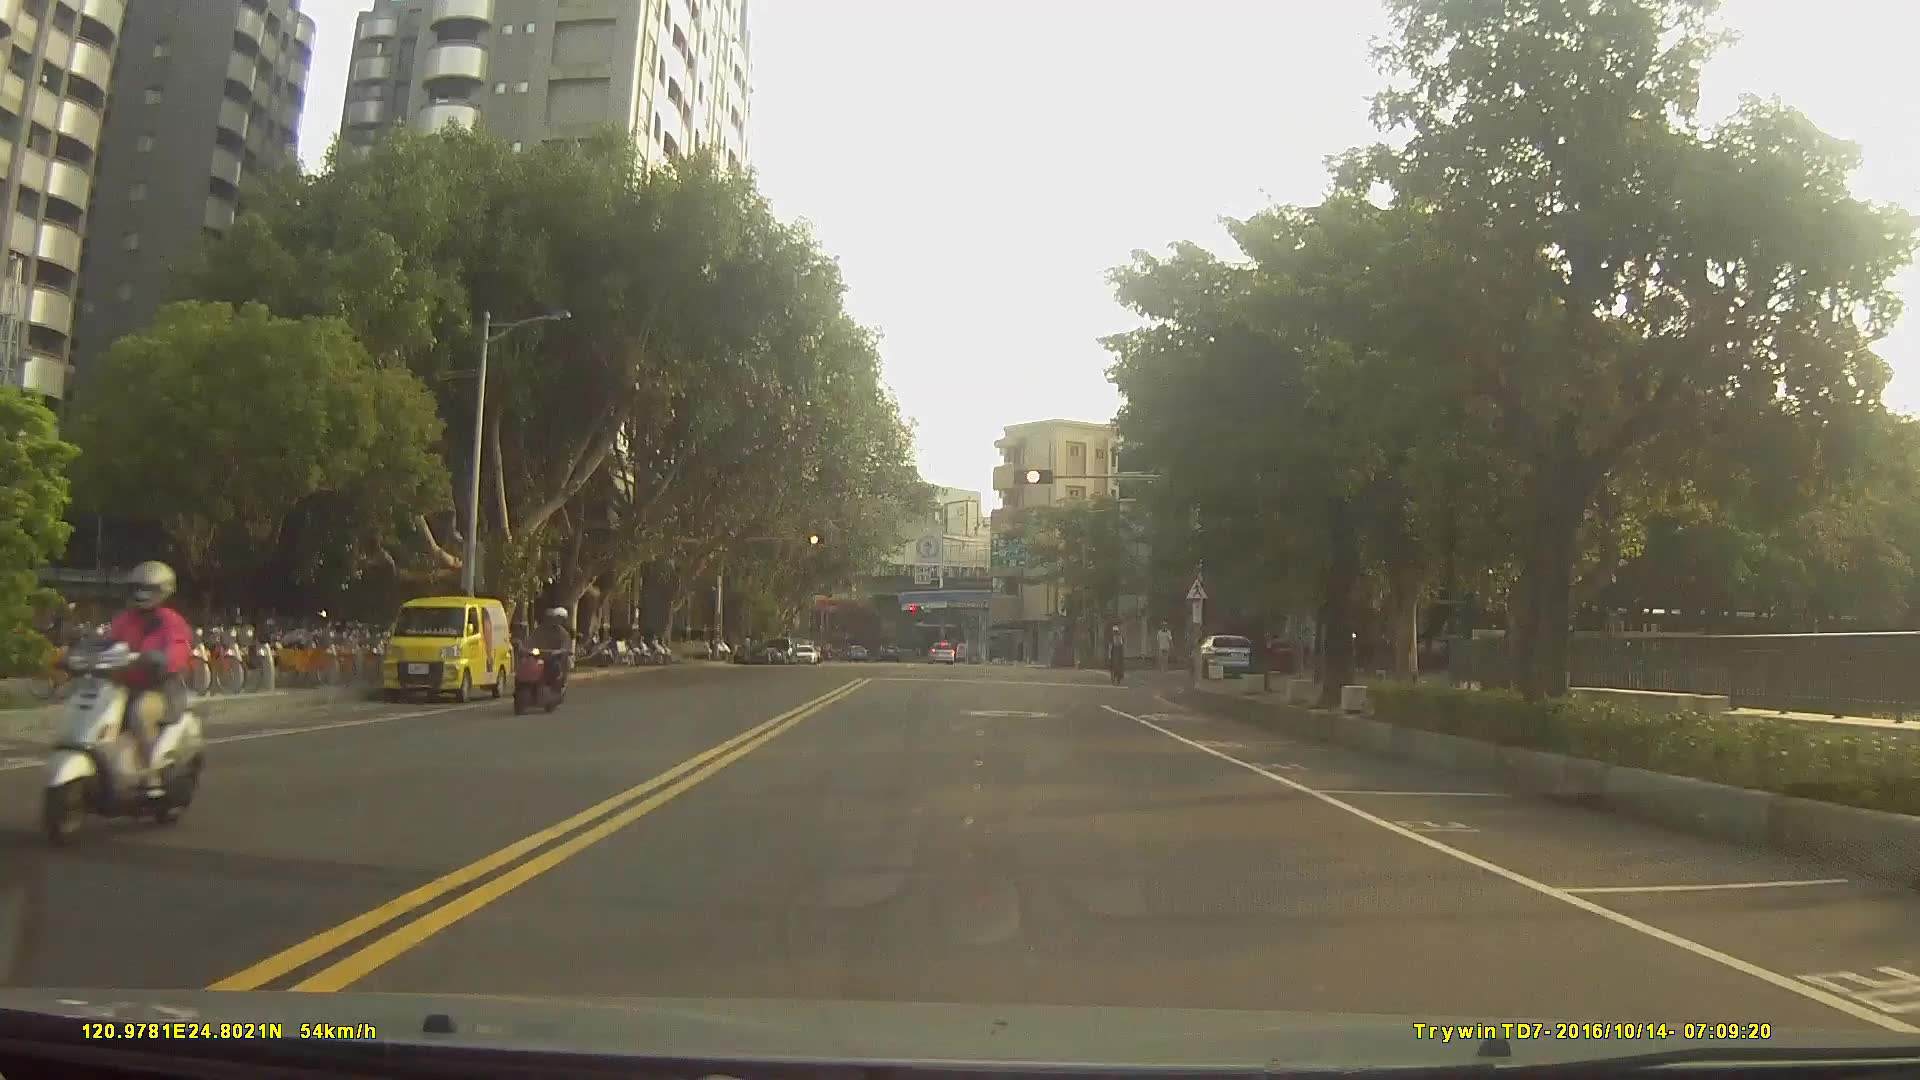pedestrian: (1155, 618, 1175, 676)
rider: (42, 559, 206, 848), (513, 604, 575, 715), (1108, 619, 1130, 679)
vehicle: (1191, 633, 1256, 675), (930, 642, 955, 664)
